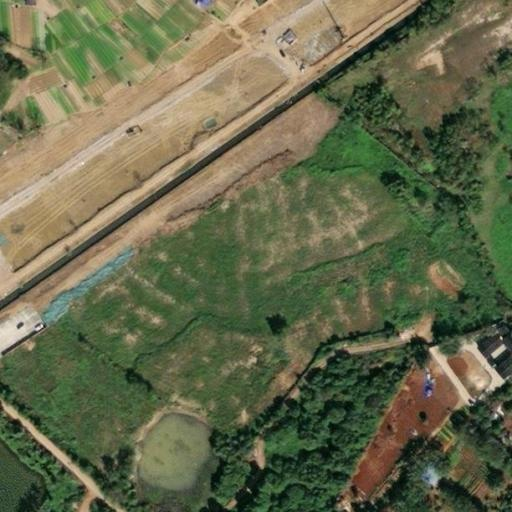building: (464, 330, 494, 359), (488, 323, 512, 356), (483, 351, 511, 379), (411, 462, 434, 486), (474, 354, 488, 367), (417, 380, 424, 396), (17, 0, 29, 6), (191, 0, 202, 6)
